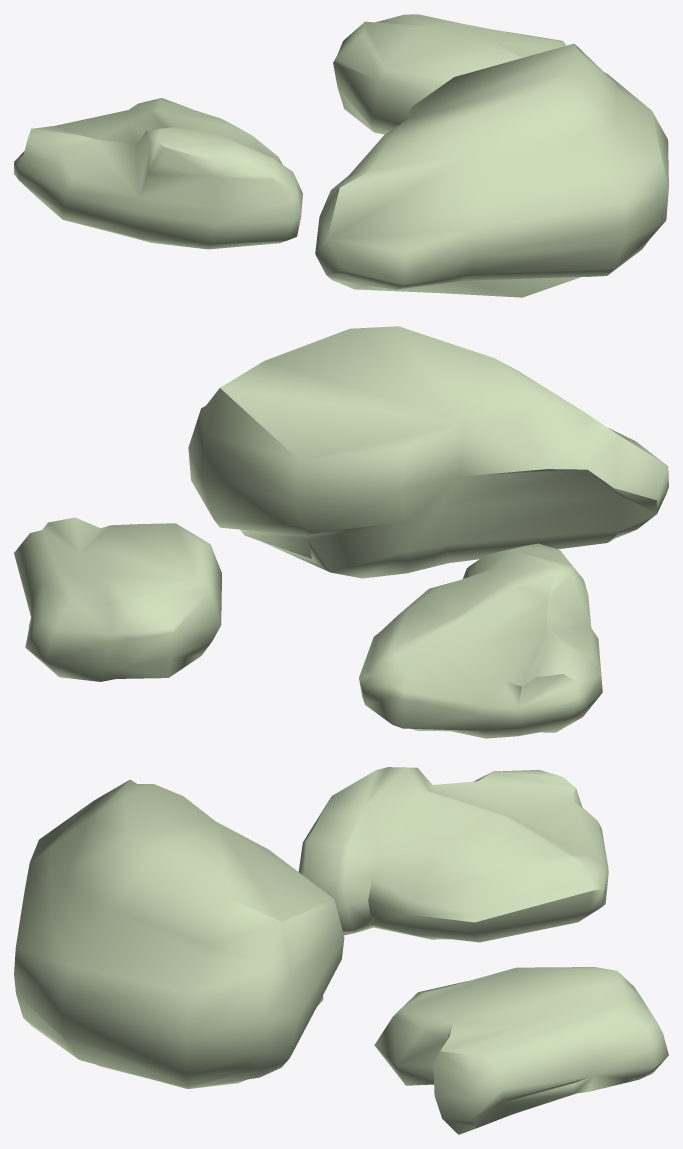
Rendered from cliff_wall09.fbx.
The picture shows the model from 3 angles, top to bottom: view 1: azimuth 30°, elevation 25°; view 2: azimuth 150°, elevation 25°; view 3: azimuth 270°, elevation 25°; orthographic projection. The views are drawn at different scales.
Visible parts, largest first — view 1: cliff_wall_09_reference; view 2: cliff_wall_09_reference; view 3: cliff_wall_09_reference.
Boxes of the visible parts, bbox=[...] form: cliff_wall_09_reference: bbox=[14, 14, 668, 297]; cliff_wall_09_reference: bbox=[14, 326, 668, 738]; cliff_wall_09_reference: bbox=[14, 767, 668, 1134].
Bounding box in the file's own units: 177 × 57.52 × 165.
